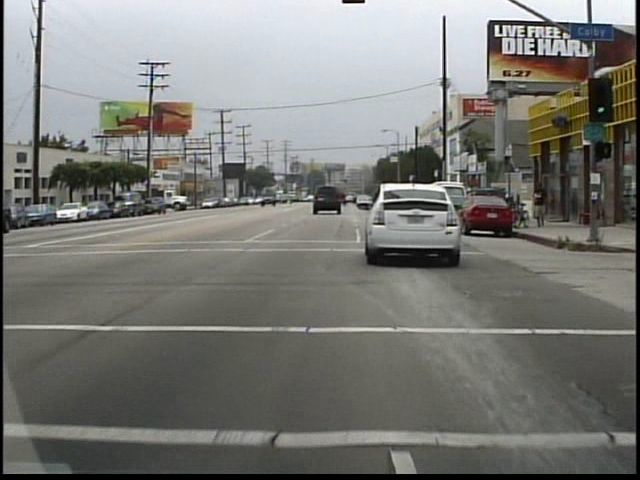person: (532, 177, 554, 232)
